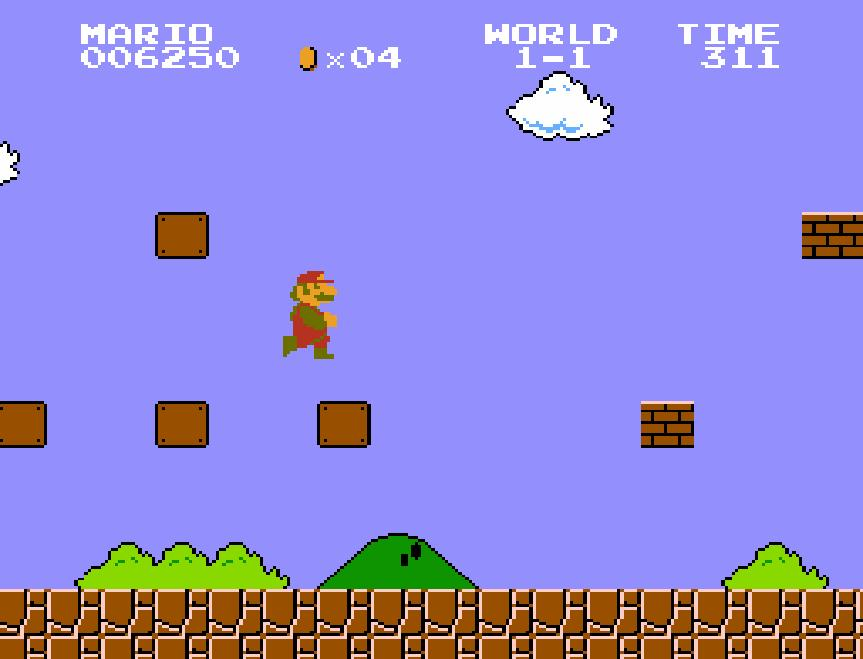big_mario: (280, 263, 338, 361)
